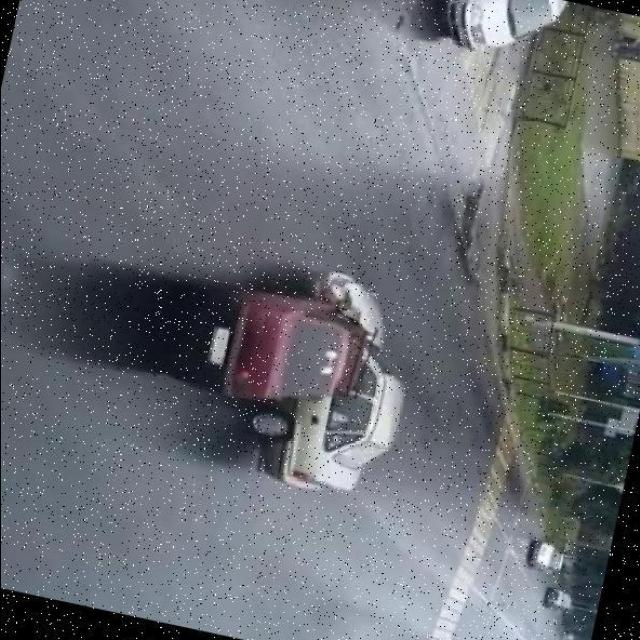accident: (149, 219, 433, 510)
